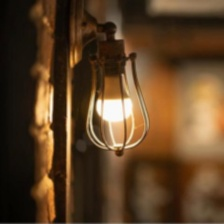light_bulb: (91, 71, 134, 124)
